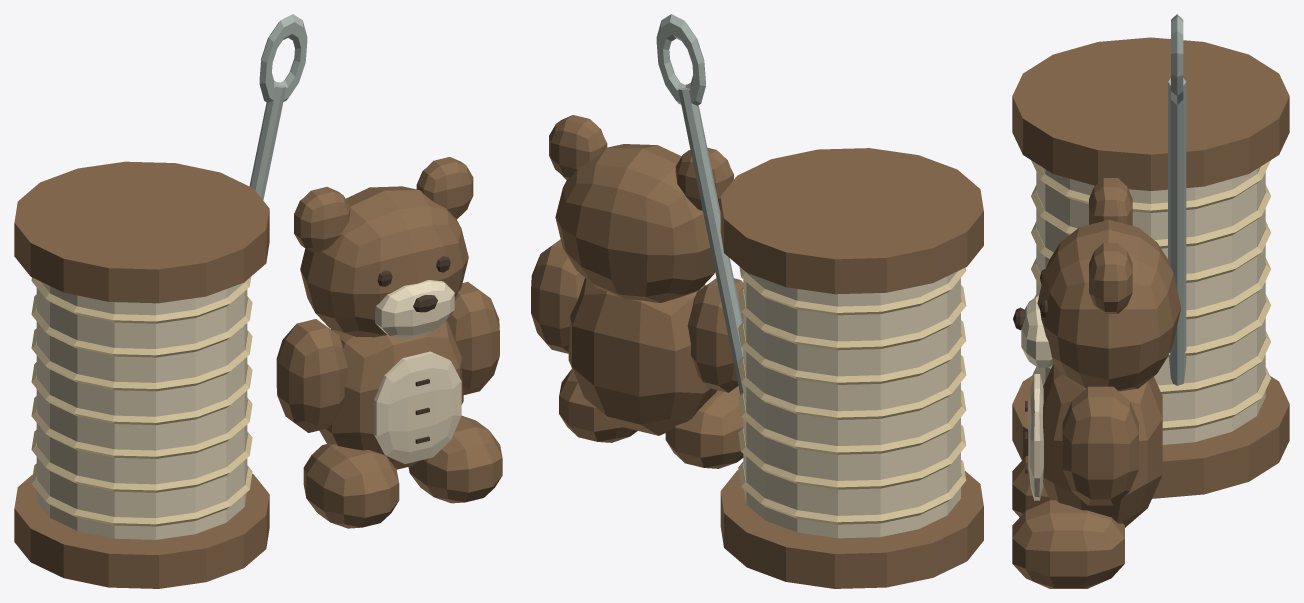
File: 14_Gomson_Sewing.fbx
3 views of the same model, side by side, from view 1: azimuth 30°, elevation 25°; view 2: azimuth 150°, elevation 25°; view 3: azimuth 270°, elevation 25° (orthographic). The views are drawn at different scales.
Visible parts, largest first — view 1: 14_Gomson_Sewing__Thread_Spool, 14_Gomson_Sewing__Teddy, 14_Gomson_Sewing__Needle; view 2: 14_Gomson_Sewing__Thread_Spool, 14_Gomson_Sewing__Teddy, 14_Gomson_Sewing__Needle; view 3: 14_Gomson_Sewing__Thread_Spool, 14_Gomson_Sewing__Teddy, 14_Gomson_Sewing__Needle.
Part boxes in pixels (bbox=[...]): 14_Gomson_Sewing__Thread_Spool: bbox=[14, 161, 269, 588]; 14_Gomson_Sewing__Teddy: bbox=[276, 157, 502, 528]; 14_Gomson_Sewing__Needle: bbox=[249, 14, 307, 200]; 14_Gomson_Sewing__Thread_Spool: bbox=[720, 148, 983, 588]; 14_Gomson_Sewing__Teddy: bbox=[531, 115, 743, 468]; 14_Gomson_Sewing__Needle: bbox=[656, 14, 743, 394]; 14_Gomson_Sewing__Thread_Spool: bbox=[1012, 37, 1289, 498]; 14_Gomson_Sewing__Teddy: bbox=[1012, 178, 1180, 588]; 14_Gomson_Sewing__Needle: bbox=[1168, 14, 1186, 393].
Size of the model in its own units: 272 by 280 by 138.
Materials: 2 (2 with a texture image).
